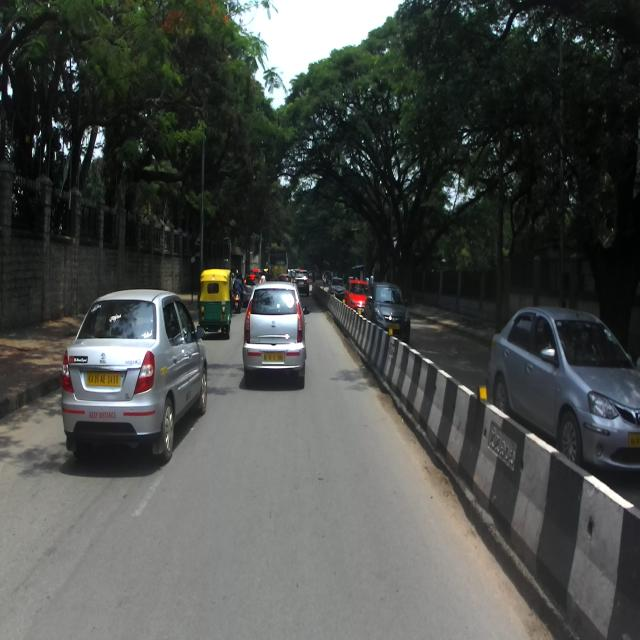car ahead at: (54, 281, 215, 467), (240, 278, 309, 388)
